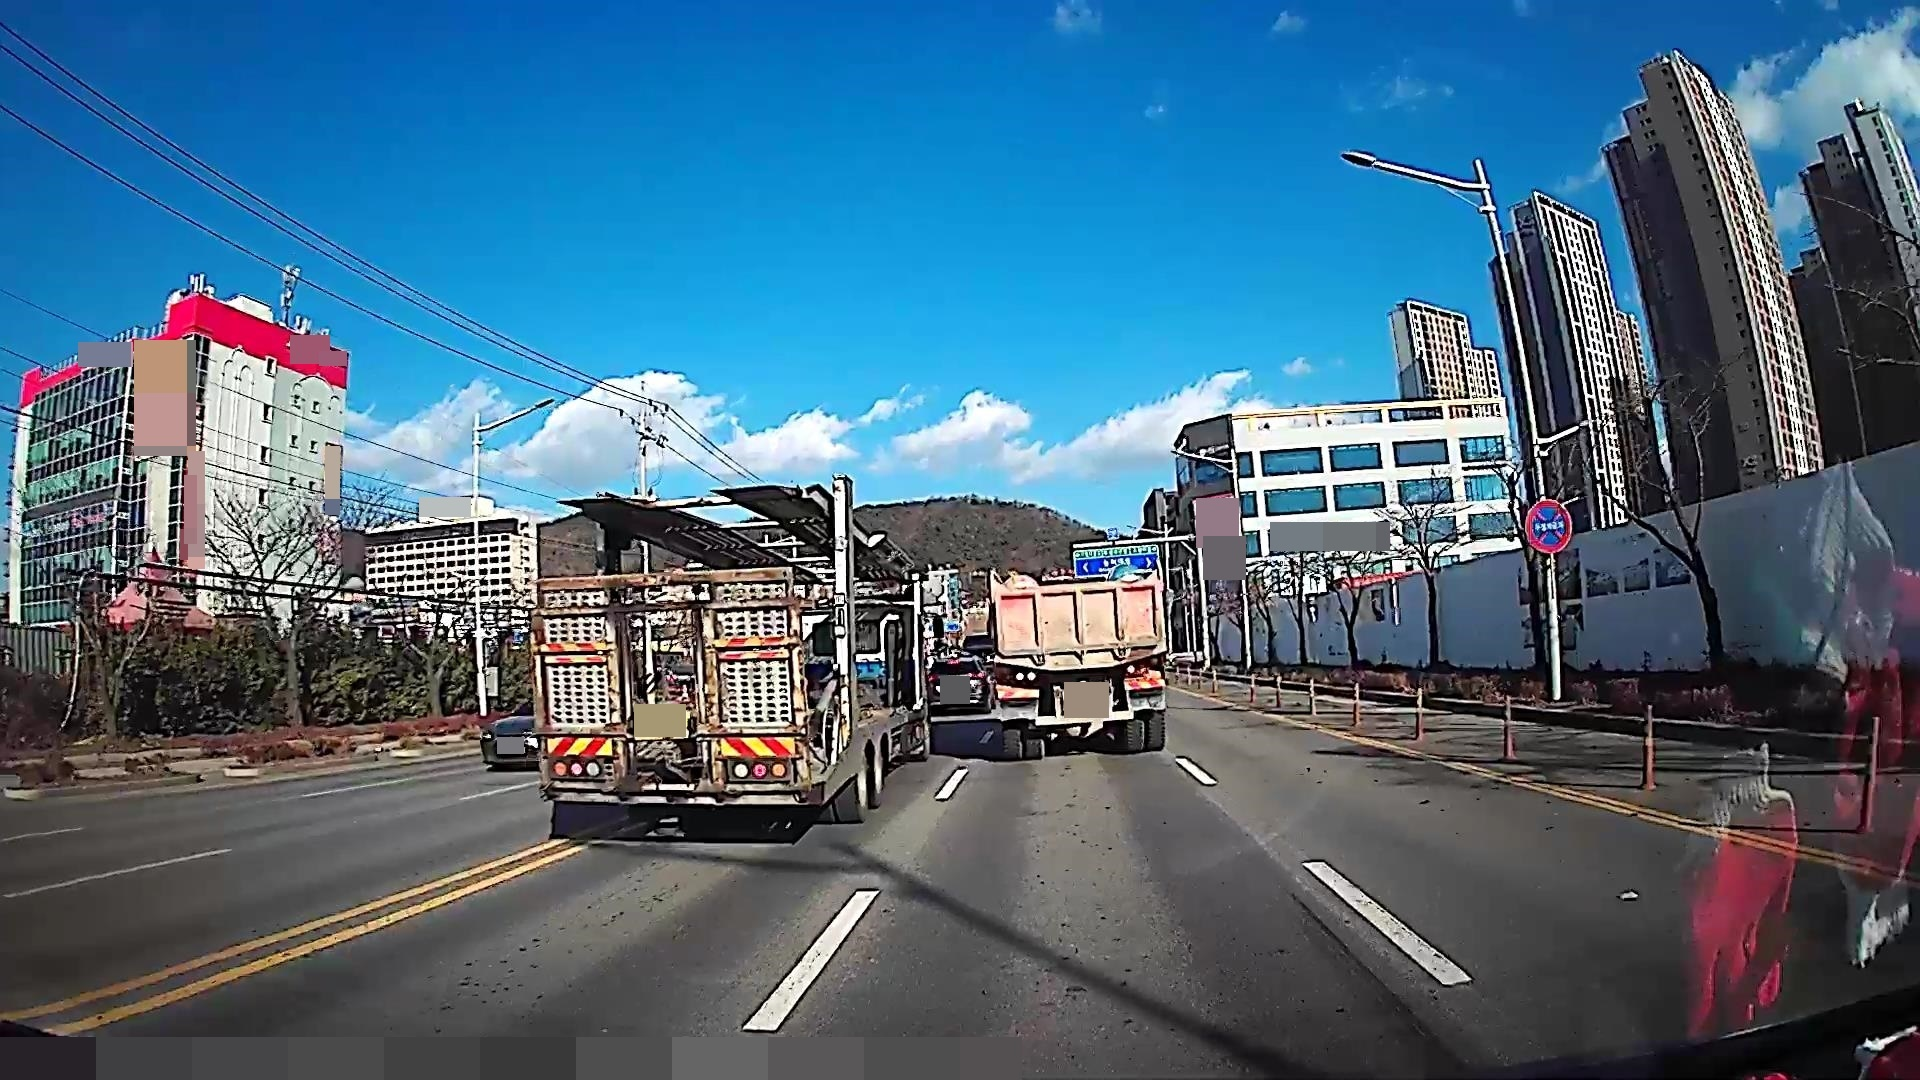불법차량: (985, 567, 1175, 761)
